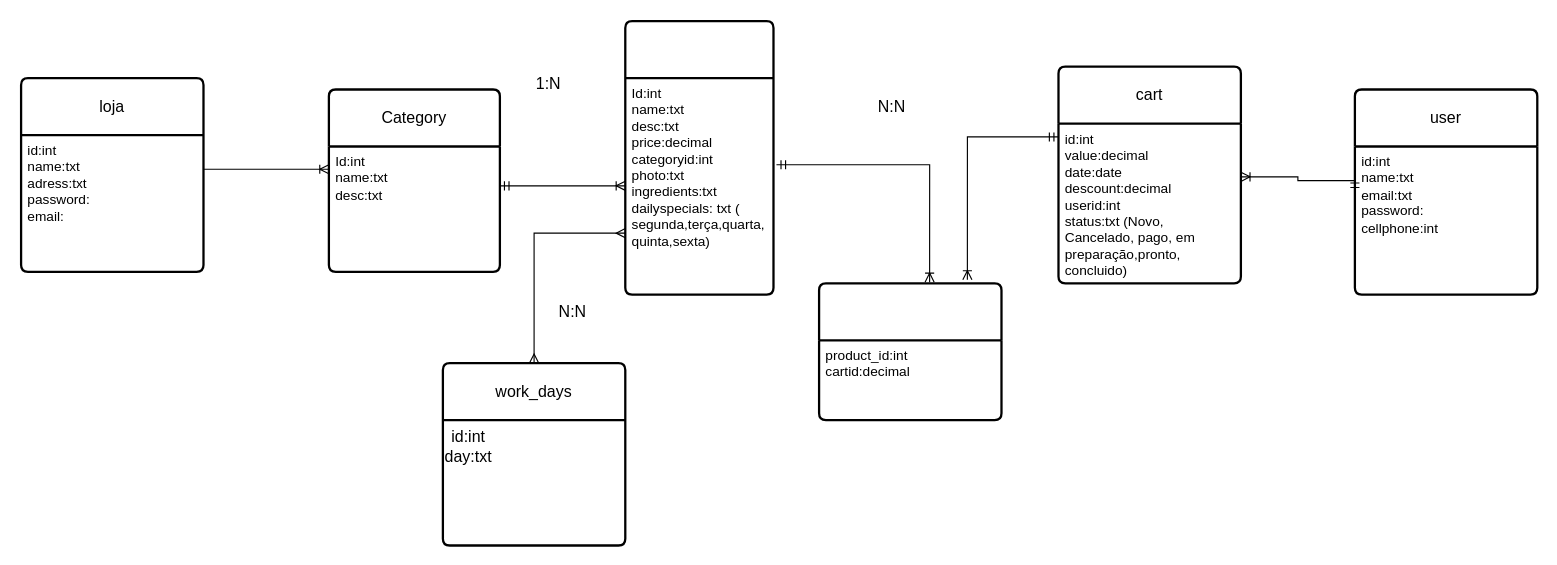
Some shapes in this 1557 by 565 pixel diagram are drawn without their labels. The shapes that lost their labels are listed below. From the top down, each one's box as (x1, y1, x2, y2) in pixels, then its label:
(624, 19, 774, 295): Product
(817, 282, 1002, 421): Product_cart
